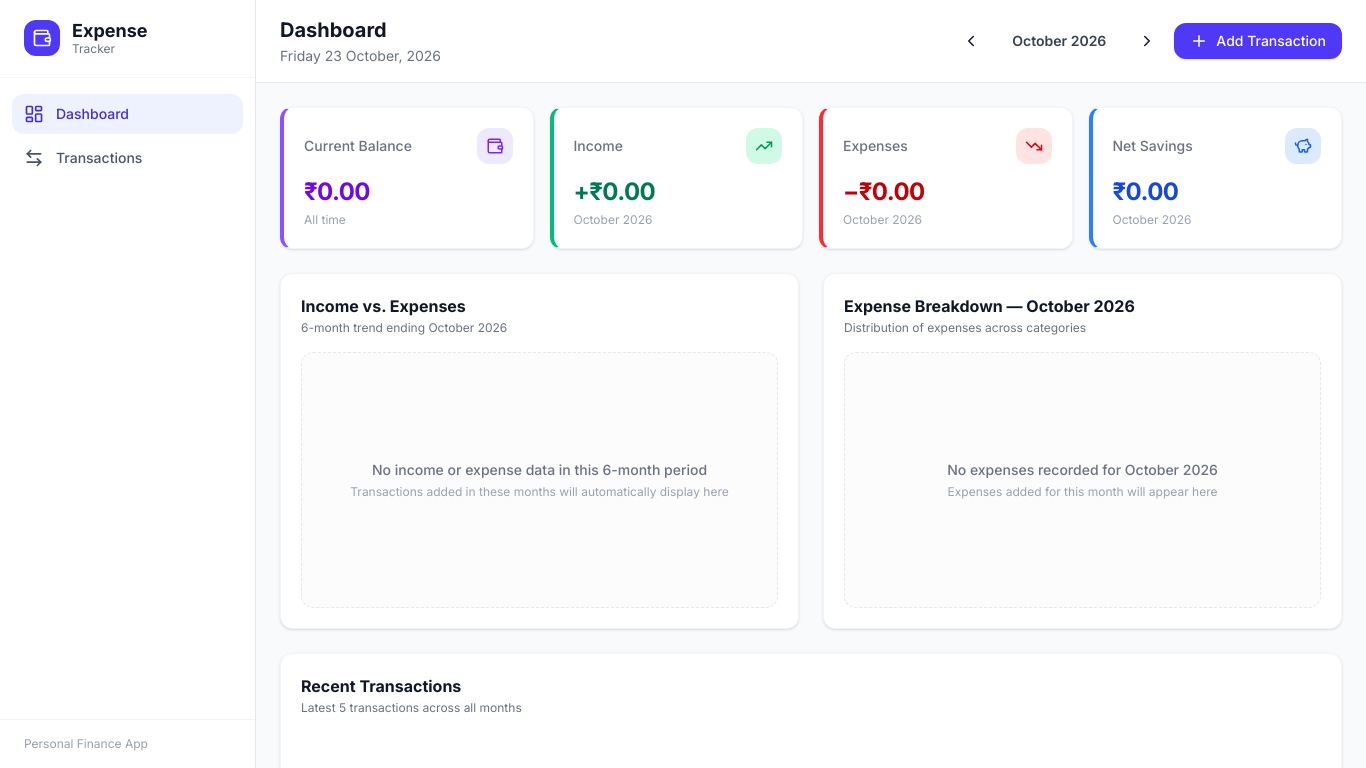
Scenario: Hooks and Components Integration Tests › adding a transaction writes to storage only after explicit user submission
Click Add Transaction via header button
Click the button with id "header-add-transaction" at (1258, 41), box left=1174, top=23, right=1342, bottom=59
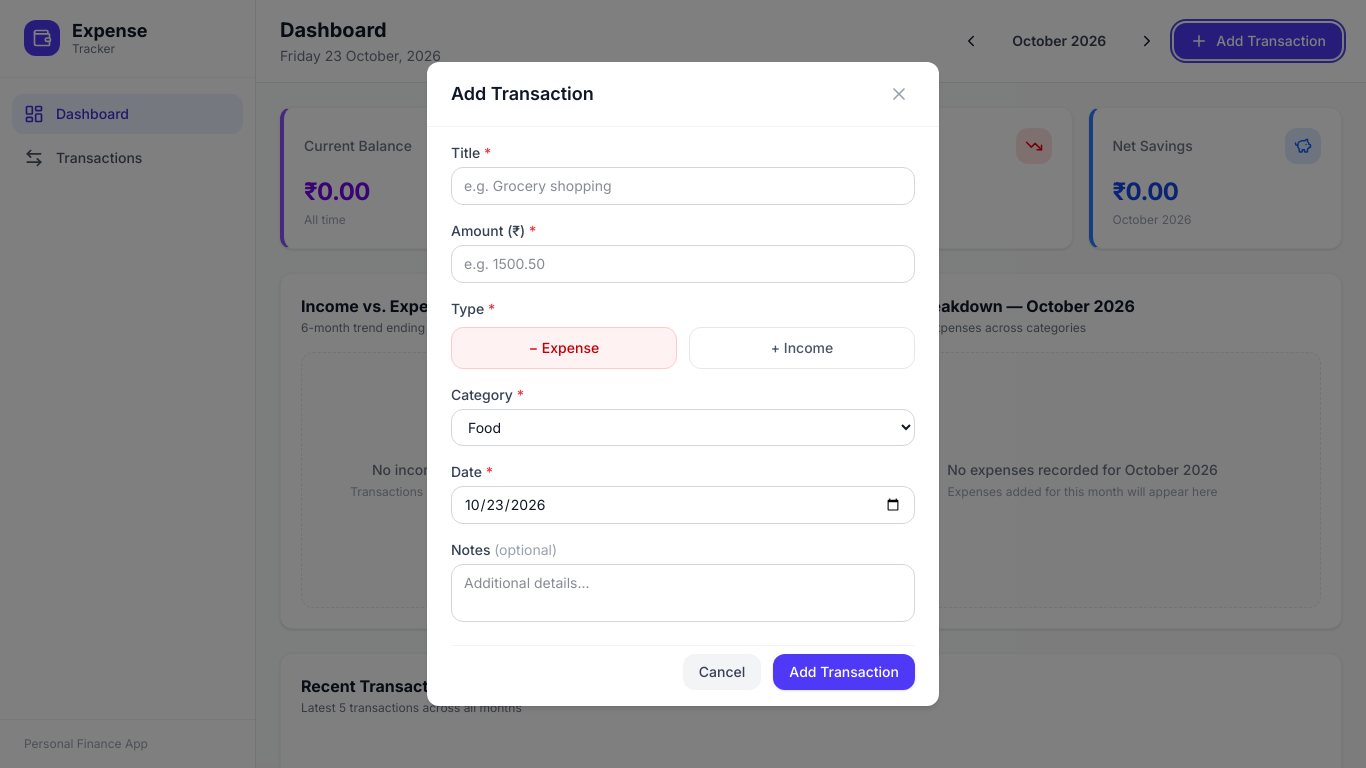
Now the dialog is shown, box left=427, top=62, right=939, bottom=706
Type "Coffee" into the field labelled "Title *" at (683, 186), box left=451, top=167, right=915, bottom=205
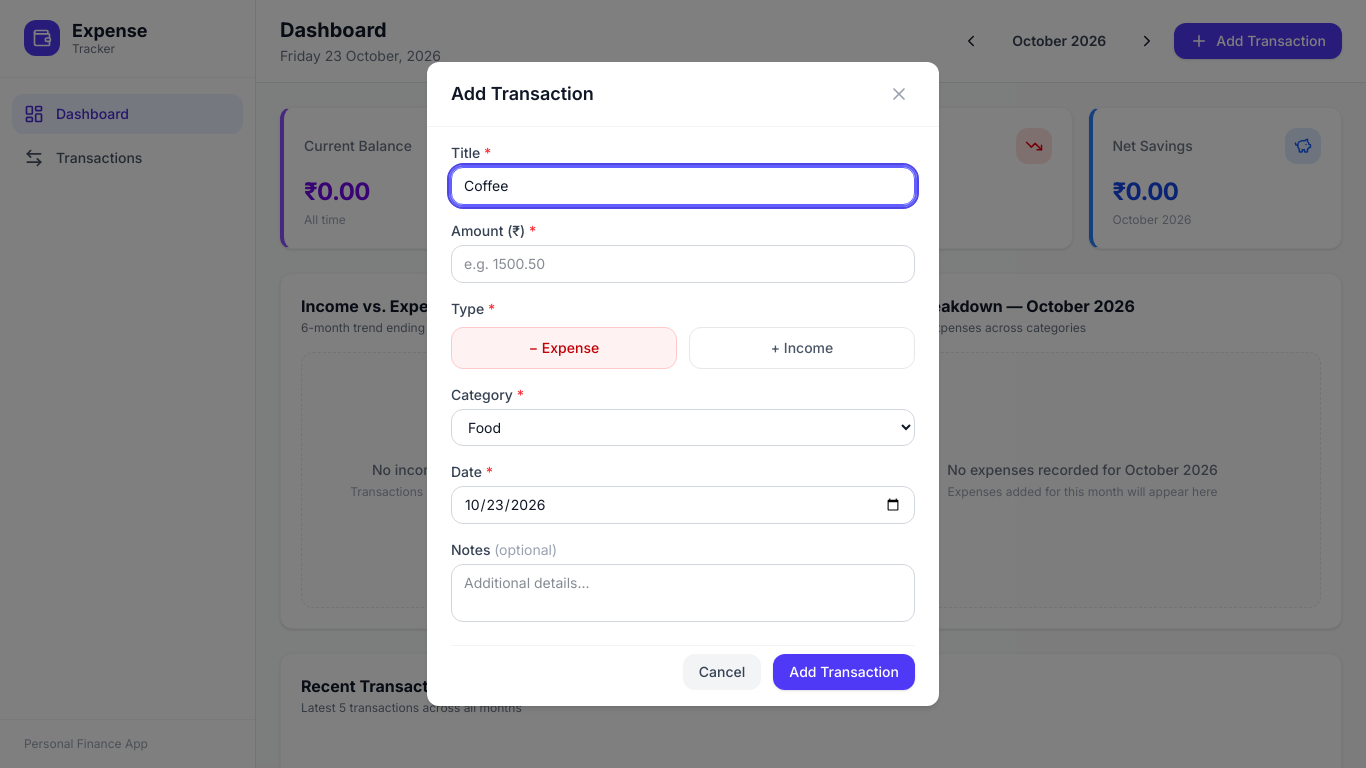
Type "150.50" into the field labelled "Amount (₹) *" at (683, 264), box left=451, top=245, right=915, bottom=283
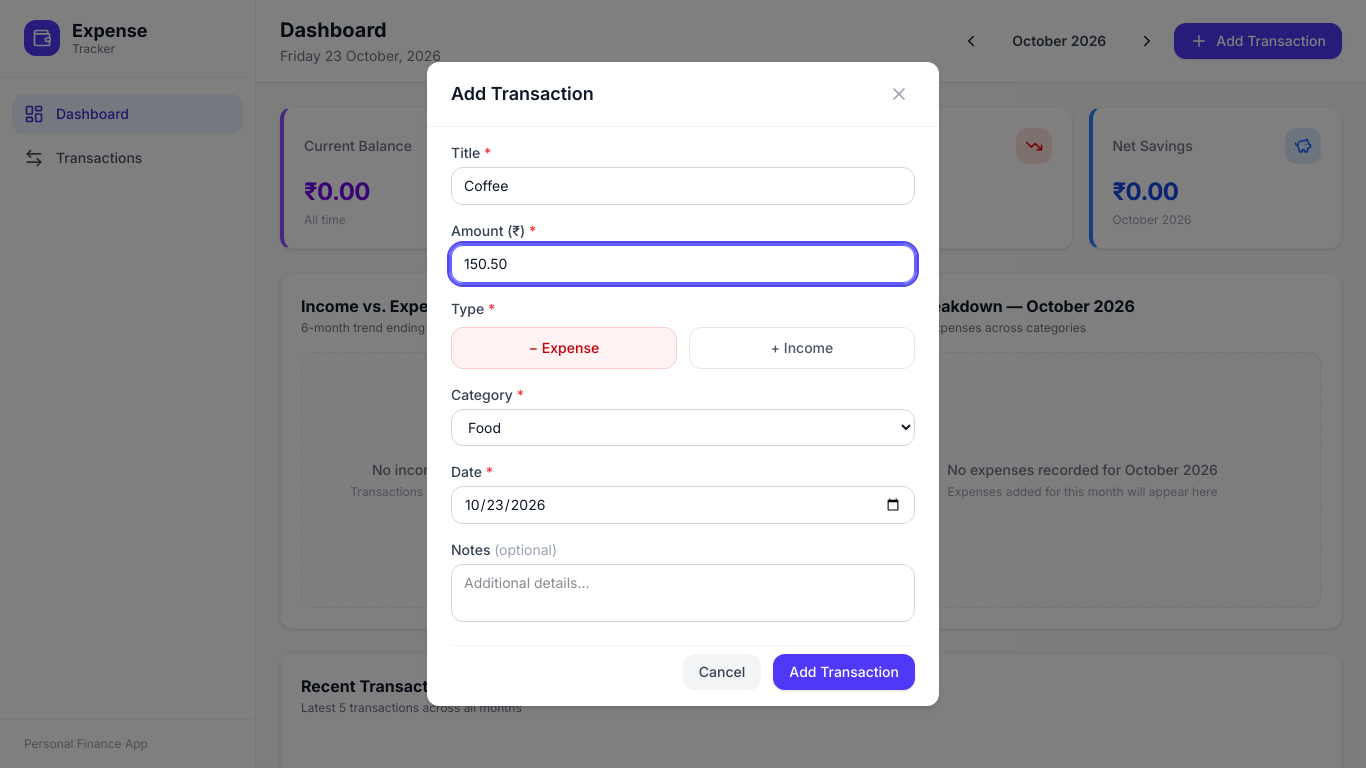
Submit form using submit button within dialog
Click the button "Add Transaction" at (844, 672), box left=773, top=654, right=915, bottom=690
(page scrolled)
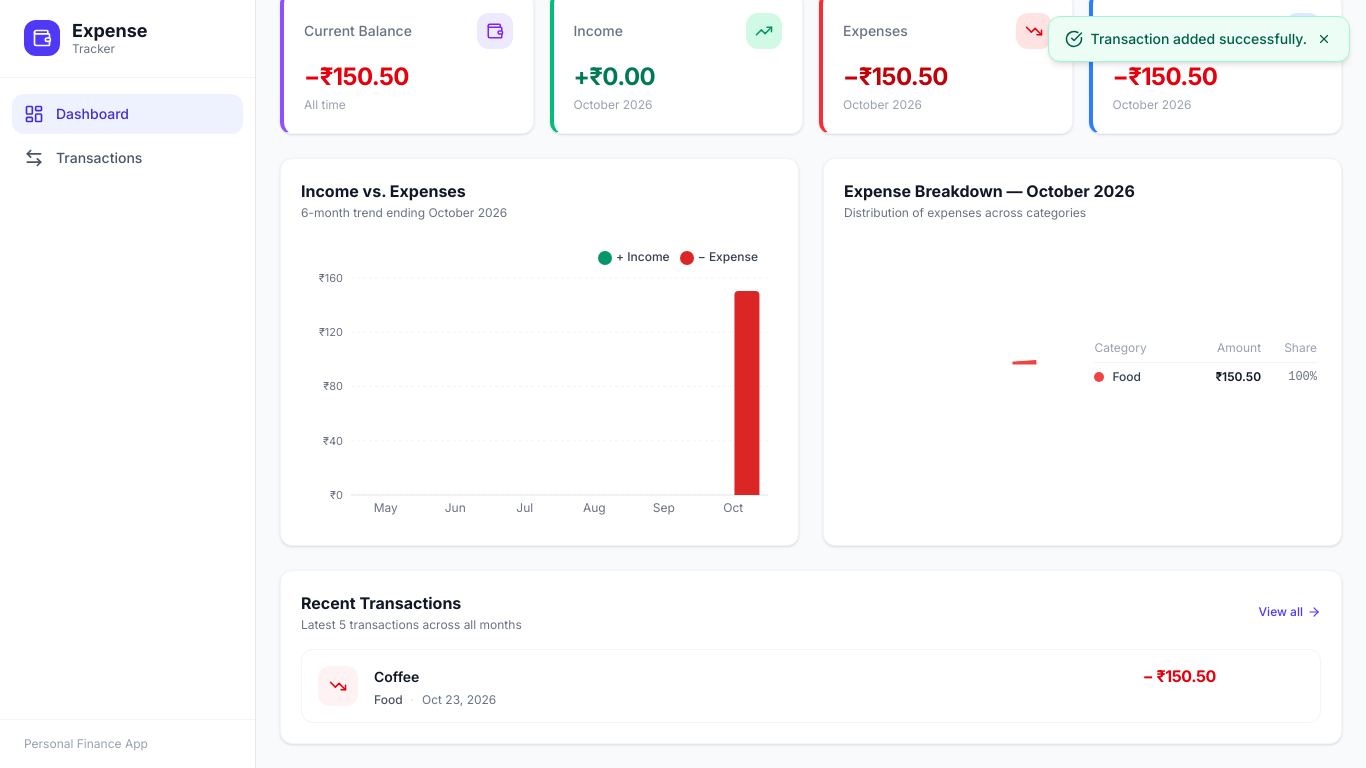
Now the dialog is gone
Now the text "Coffee" is shown, box left=374, top=667, right=419, bottom=687
